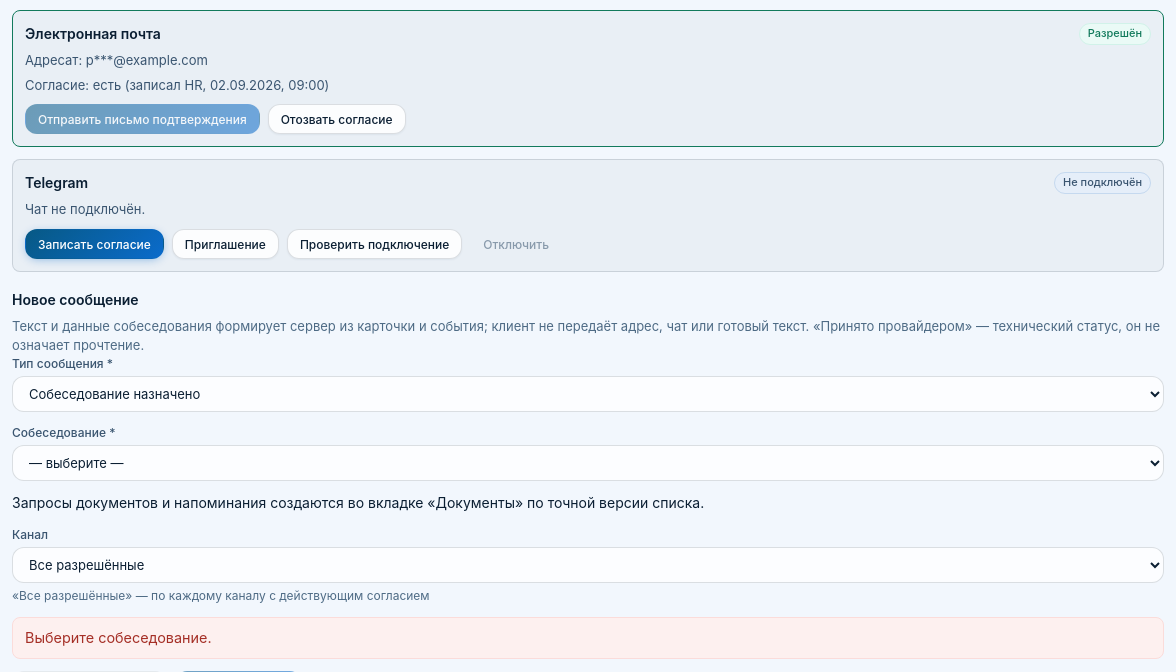
Test: MessagesTab › previews an interview without ever sending a recipient or text
Select "Собеседование · 10.09.2026, 10:00 · Первичное интервью" in the dropdown labelled "Собеседование *" at (588, 464), box 12,446 -> 1164,482
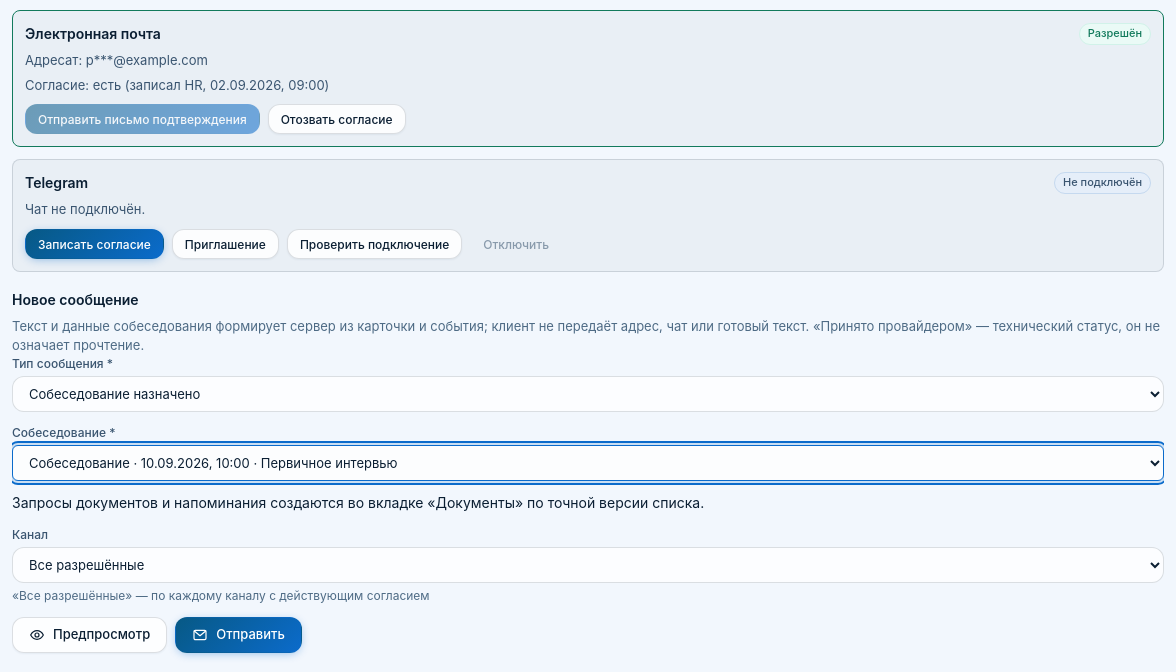
Expected: the button "Предпросмотр" is enabled
Click the button "Предпросмотр".
click(90, 634)  # box 12,616 -> 167,652
(page scrolled)
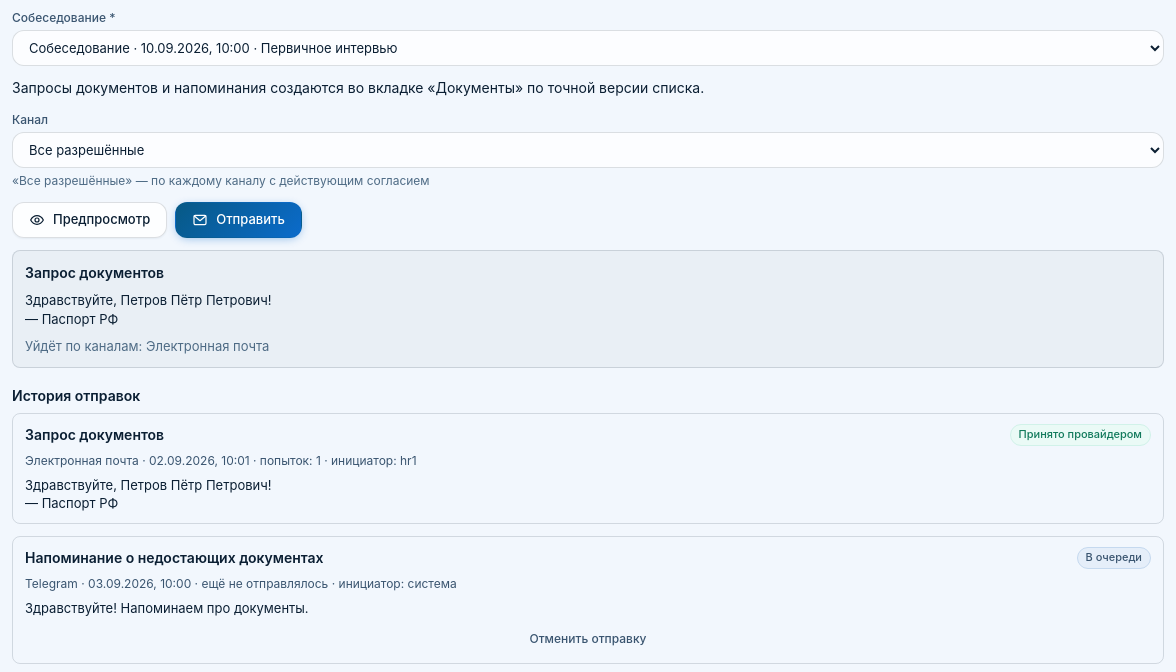
Expected: the text "Уйдёт по каналам: Электронная почта" is shown, 25,338 -> 269,354
